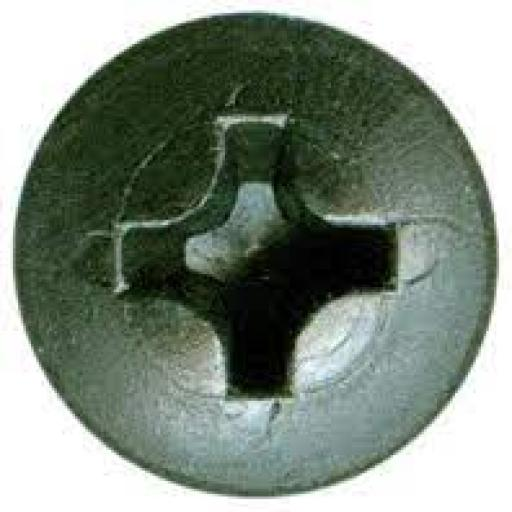Phillips: (13, 7, 495, 494)
